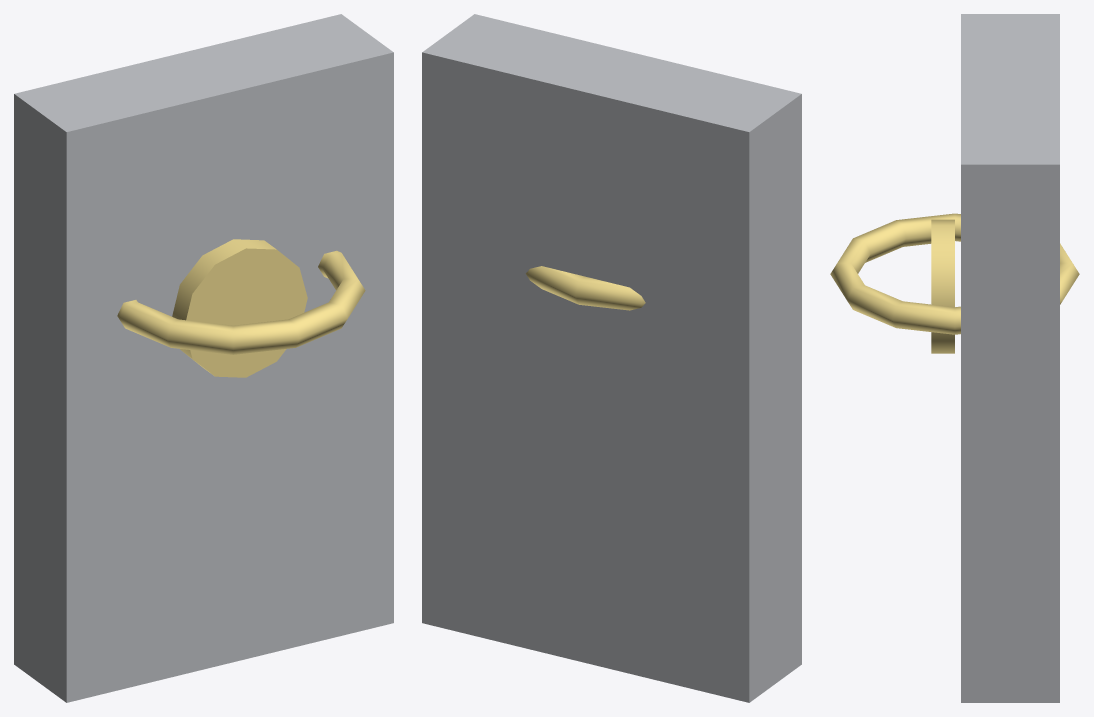
File: wonder-stone-sun.gltf
The picture shows the model from 3 angles, left to right: view 1: azimuth 30°, elevation 25°; view 2: azimuth 150°, elevation 25°; view 3: azimuth 270°, elevation 25°; orthographic projection. The views are drawn at different scales.
Parts seen in each view (by area): view 1: Stone, EmblemDisc, EmblemRays; view 2: Stone, EmblemRays; view 3: Stone, EmblemRays, EmblemDisc.
Part boxes in pixels (x1=…): Stone: x1=14, y1=14, x2=393, y2=702; EmblemDisc: x1=172, y1=239, x2=307, y2=377; EmblemRays: x1=117, y1=250, x2=365, y2=354; Stone: x1=422, y1=14, x2=801, y2=702; EmblemRays: x1=525, y1=266, x2=645, y2=310; Stone: x1=961, y1=14, x2=1059, y2=702; EmblemRays: x1=830, y1=213, x2=1079, y2=334; EmblemDisc: x1=931, y1=219, x2=954, y2=353.
Bounding box in the file's own units: 0.9 × 1.5 × 0.63.
